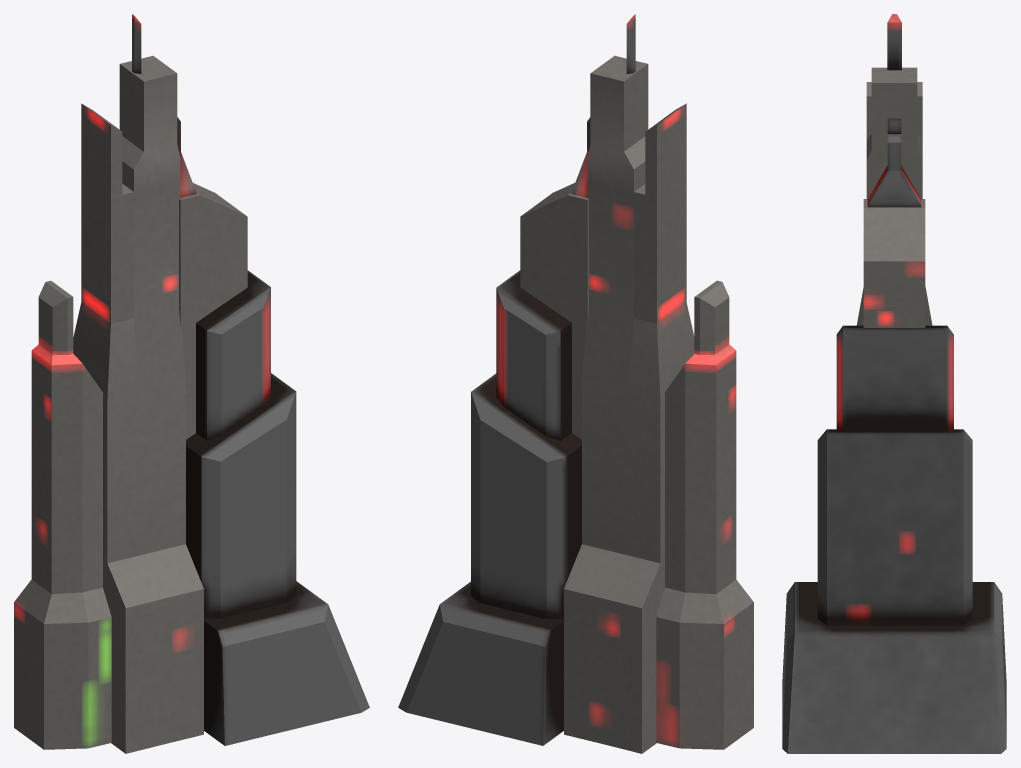
File: SM_BackgroundBuilding_003.fbx
The picture shows the model from 3 angles, left to right: view 1: azimuth 30°, elevation 25°; view 2: azimuth 150°, elevation 25°; view 3: azimuth 270°, elevation 25°; orthographic projection. The views are drawn at different scales.
Visible parts, largest first — view 1: SM_BackgroundBuilding_003; view 2: SM_BackgroundBuilding_003; view 3: SM_BackgroundBuilding_003.
Part boxes in pixels (left/top/right/bottom): SM_BackgroundBuilding_003: left=14, top=14, right=369, bottom=753; SM_BackgroundBuilding_003: left=398, top=14, right=753, bottom=753; SM_BackgroundBuilding_003: left=782, top=14, right=1006, bottom=753.
Bounding box in the file's own units: 1721 × 1246 × 4044.
Materials: 1 (1 with a texture image).
